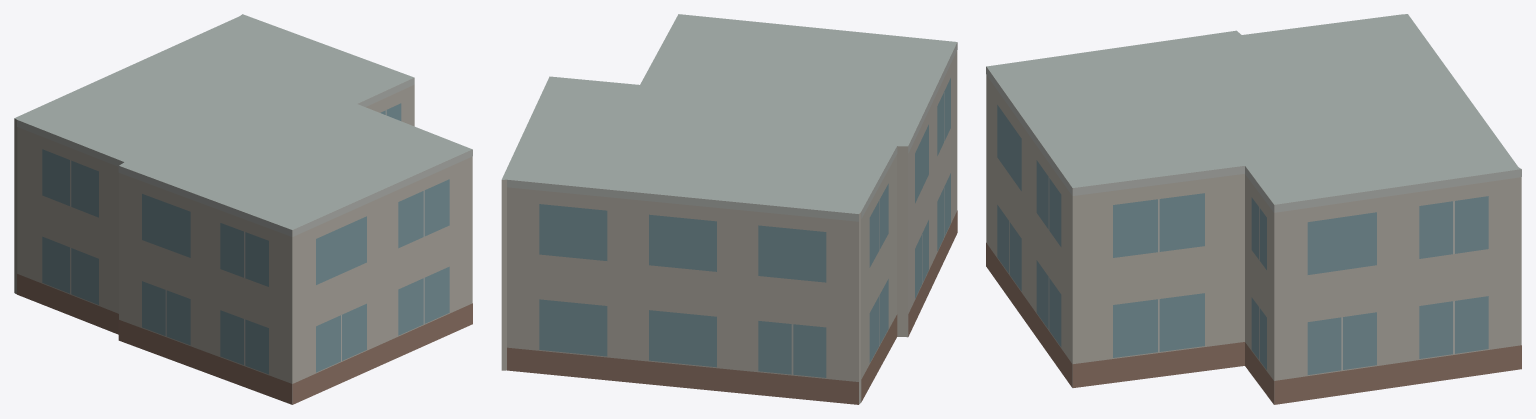
The model's file is survey-upis-32621758.glb.
The picture shows the model from 3 angles, left to right: view 1: azimuth 30°, elevation 25°; view 2: azimuth 150°, elevation 25°; view 3: azimuth 270°, elevation 25°; orthographic projection. The views are drawn at different scales.
Visible parts, largest first — view 1: survey-upis-32621758.tmp; view 2: survey-upis-32621758.tmp; view 3: survey-upis-32621758.tmp.
Part boxes in pixels (<box>): survey-upis-32621758.tmp: <box>14,14,472,404</box>; survey-upis-32621758.tmp: <box>501,14,957,404</box>; survey-upis-32621758.tmp: <box>986,14,1521,404</box>.
Size of the model in its own units: 12.5 by 6.1 by 14.81.
